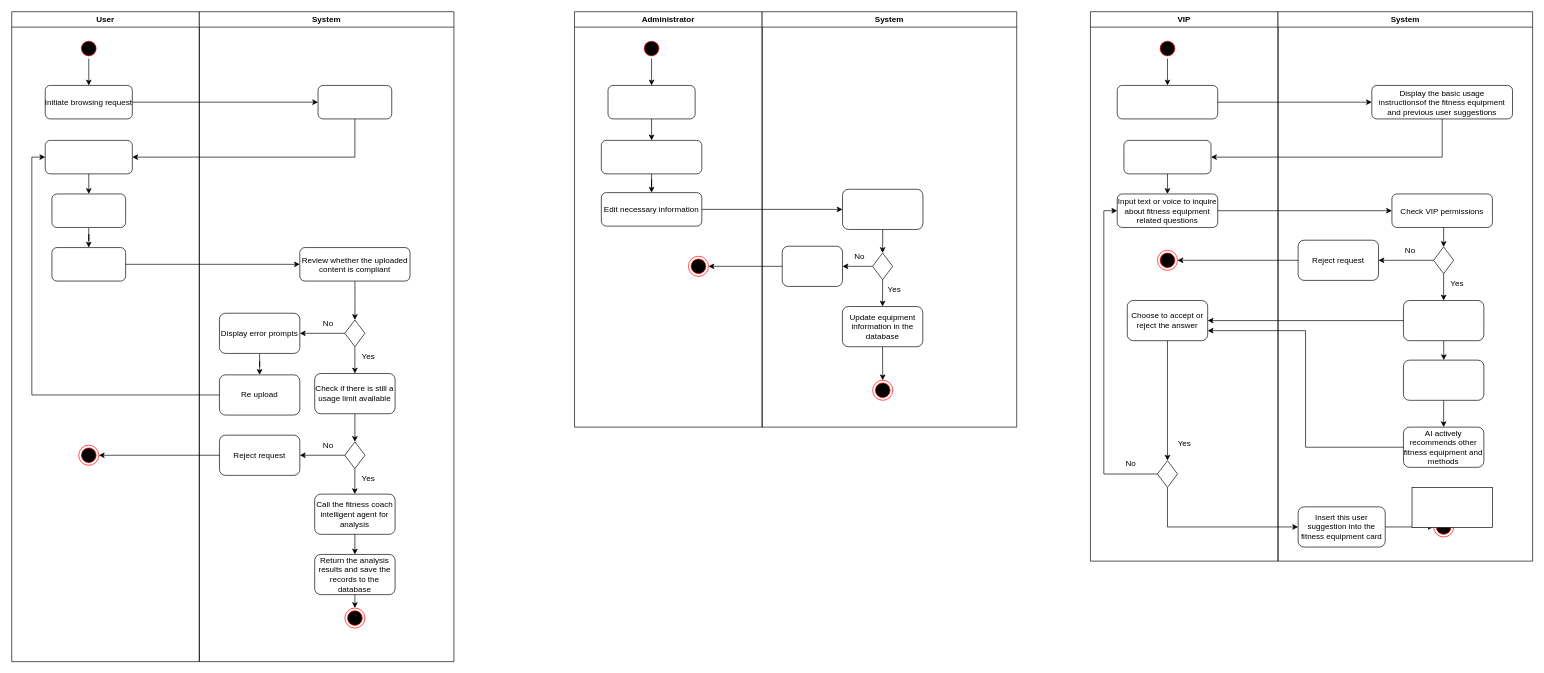
The diagram is 1544 pixels wide and 673 high, and some of its shapes have lost their labels. Here are the shapes that lost their labels. From the top down, the centre of each, then its label:
At (x=354, y=102): "Display the main page of AI fitness".
At (x=651, y=102): "Log in to the system backend".
At (x=1167, y=102): "Select and click on a fitness equipment card".
At (x=88, y=157): "Upload fitness action pictures or videos".
At (x=651, y=157): "Click on the add/edit/delete device button".
At (x=1167, y=157): "Click the start conversation button".
At (x=88, y=210): "Fill in the type of fitness movement".
At (x=882, y=209): "Check if the operation is compliant".
At (x=88, y=264): "Submit AI analysis".
At (x=812, y=266): "End operation".
At (x=1443, y=320): "AI provides relevant suggestions".
At (x=1443, y=379): "Save the conversation record in the database".
